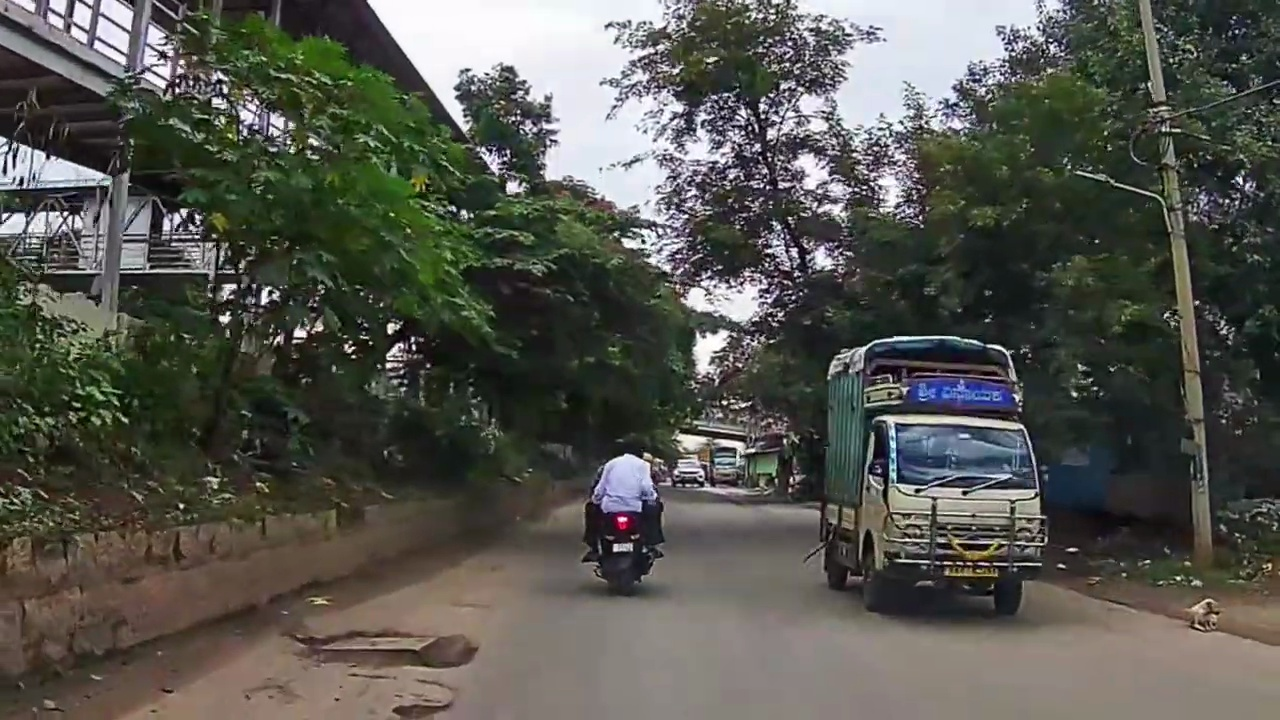garbage: (1236, 506, 1279, 596)
